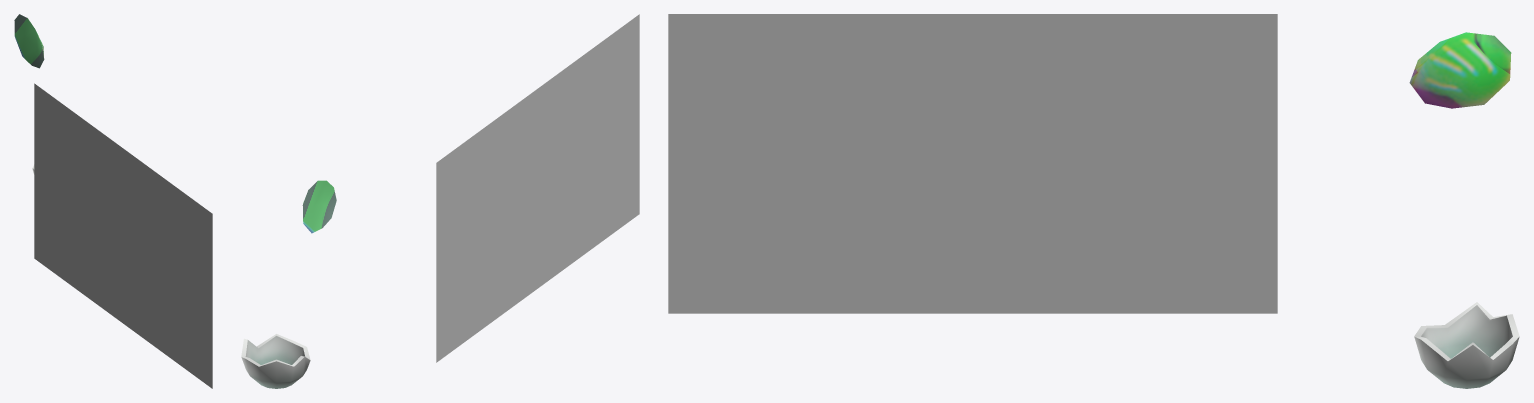
The model's file is ClamFBX.FBX.
The picture shows the model from 3 angles, left to right: view 1: azimuth 30°, elevation 25°; view 2: azimuth 150°, elevation 25°; view 3: azimuth 270°, elevation 25°; orthographic projection. The views are drawn at different scales.
Visible parts, largest first — view 1: Plane001, Clam; view 2: Plane001, EggMesh, Clam; view 3: Plane001, EggMesh, Clam.
Boxes of the visible parts, <box> form: Plane001: <box>34,83,212,388</box>; Clam: <box>14,14,44,68</box>; Plane001: <box>436,14,639,362</box>; EggMesh: <box>241,334,310,388</box>; Clam: <box>302,180,336,233</box>; Plane001: <box>668,14,1277,313</box>; EggMesh: <box>1414,302,1519,388</box>; Clam: <box>1409,32,1511,108</box>.
Size of the model in its own units: 288 by 466 by 1118.
